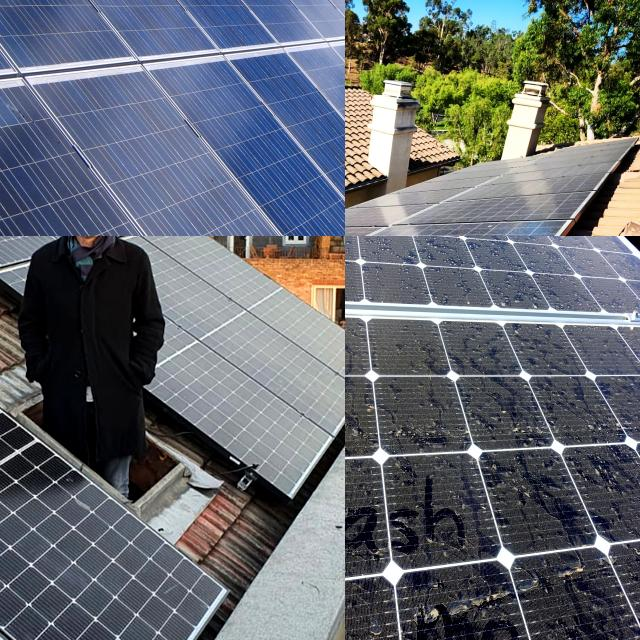crack: (29, 71, 345, 236), (0, 0, 239, 148), (45, 0, 307, 135), (158, 60, 345, 236), (0, 485, 172, 634), (228, 31, 345, 236), (142, 0, 326, 116), (0, 0, 126, 156), (269, 15, 345, 236), (191, 0, 345, 102), (297, 3, 345, 236), (0, 425, 80, 542), (191, 364, 294, 438), (47, 570, 152, 640), (233, 333, 325, 403)
dust: (478, 333, 640, 445), (531, 478, 640, 640), (345, 317, 438, 442), (345, 477, 483, 555), (407, 577, 517, 640), (407, 236, 533, 278), (345, 471, 389, 580), (345, 236, 439, 281)
